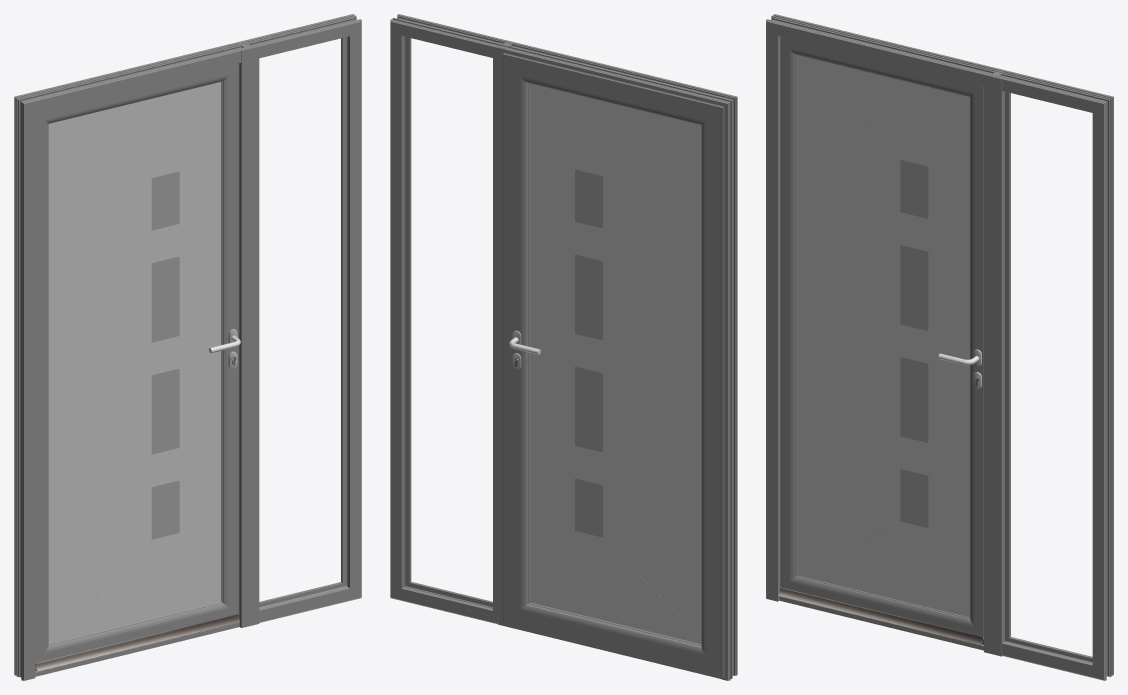
The picture shows the model from 3 angles, left to right: view 1: azimuth 30°, elevation 25°; view 2: azimuth 150°, elevation 25°; view 3: azimuth 330°, elevation 25°; orthographic projection.
Visible parts, largest first — view 1: fosco_8, aroFixo, aroMovel, montanteCentral, transparente_8, bite, borracha, escovas, rodaPe; view 2: fosco_8, aroMovel, aroFixo, bite, transparente_8, montanteCentral, borracha, rodaPe; view 3: fosco_8, aroFixo, aroMovel, montanteCentral, transparente_8, bite, escovas, borracha, rodaPe.
Boxes of the visible parts, x1,y1,x2,y2 form: fosco_8: (48, 82, 221, 643); aroFixo: (14, 14, 361, 680); aroMovel: (35, 63, 238, 663); montanteCentral: (238, 42, 259, 627); transparente_8: (151, 171, 179, 539); bite: (259, 37, 346, 607); borracha: (259, 37, 345, 606); escovas: (35, 614, 240, 671); rodaPe: (35, 622, 239, 676); fosco_8: (529, 83, 701, 644); aroMovel: (503, 53, 724, 677); aroFixo: (390, 14, 737, 680); bite: (396, 29, 498, 617); transparente_8: (575, 169, 602, 537); montanteCentral: (498, 40, 518, 626); borracha: (404, 36, 492, 608); rodaPe: (505, 624, 721, 679); fosco_8: (797, 55, 969, 617); aroFixo: (766, 14, 1113, 680); aroMovel: (780, 37, 983, 638); montanteCentral: (984, 70, 1004, 656); transparente_8: (900, 160, 928, 527); bite: (1005, 91, 1092, 661); escovas: (778, 587, 983, 645); borracha: (1006, 92, 1092, 660); rodaPe: (779, 596, 983, 650).
Bounding box in the file's own units: 1320 × 2149 × 185.
Materials: 10 (4 with a texture image).
